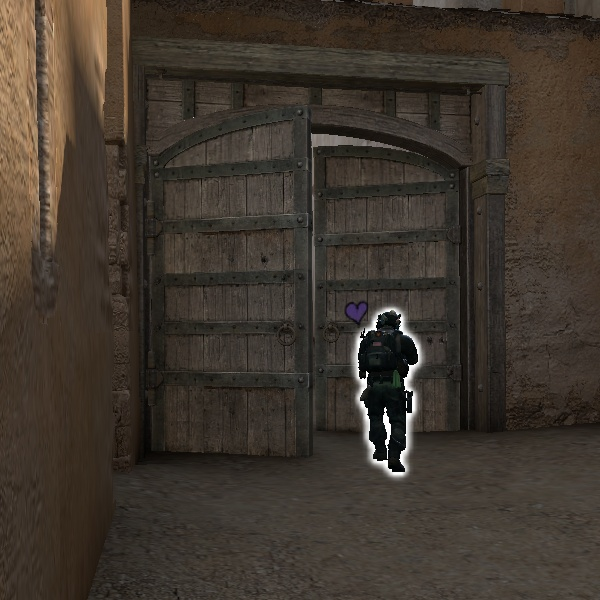ct_body: (333, 307, 428, 476)
ct_head: (373, 307, 405, 338)
